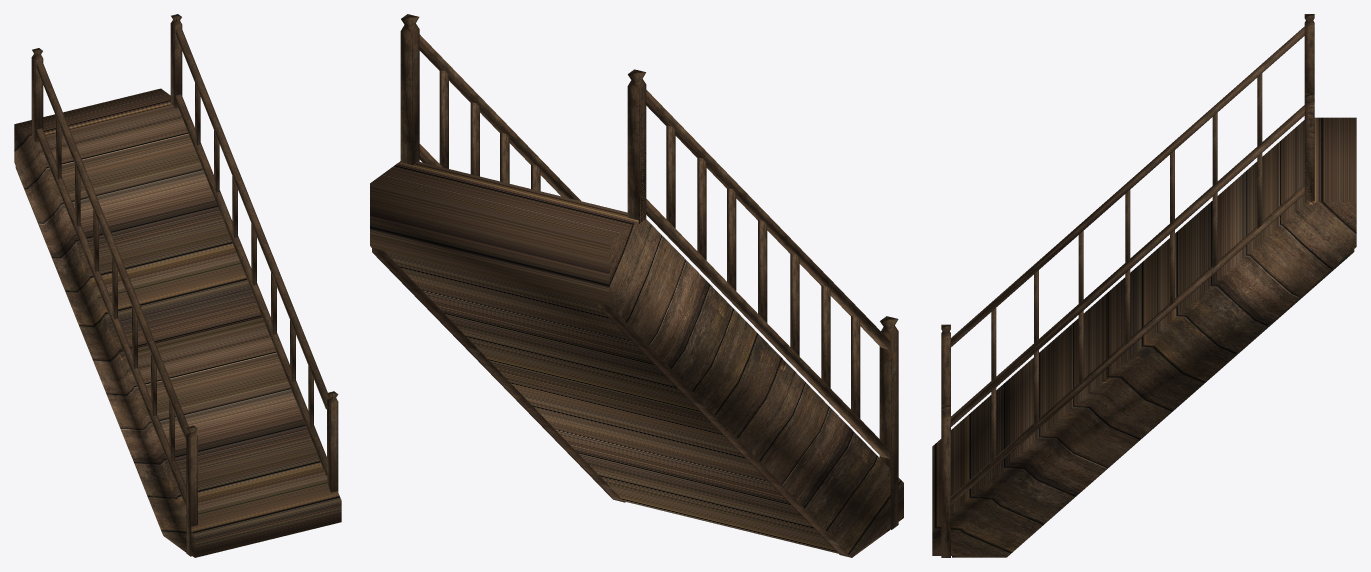
The model's file is SH3D_Sparta_Stairs.obj.
The picture shows the model from 3 angles, left to right: view 1: azimuth 30°, elevation 25°; view 2: azimuth 150°, elevation 25°; view 3: azimuth 270°, elevation 25°; orthographic projection. The views are drawn at different scales.
Visible parts, largest first — view 1: col-1, SH3D_Sparta_Stairs0; view 2: col-1, SH3D_Sparta_Stairs0; view 3: col-1, SH3D_Sparta_Stairs0.
Boxes of the visible parts, x1,y1,x2,y2 form: col-1: (14, 88, 341, 557); SH3D_Sparta_Stairs0: (15, 14, 338, 556); col-1: (370, 161, 903, 556); SH3D_Sparta_Stairs0: (372, 14, 898, 557); col-1: (932, 117, 1356, 555); SH3D_Sparta_Stairs0: (941, 14, 1354, 557).
Size of the model in its own units: 2.02 by 5.1 by 4.28.
